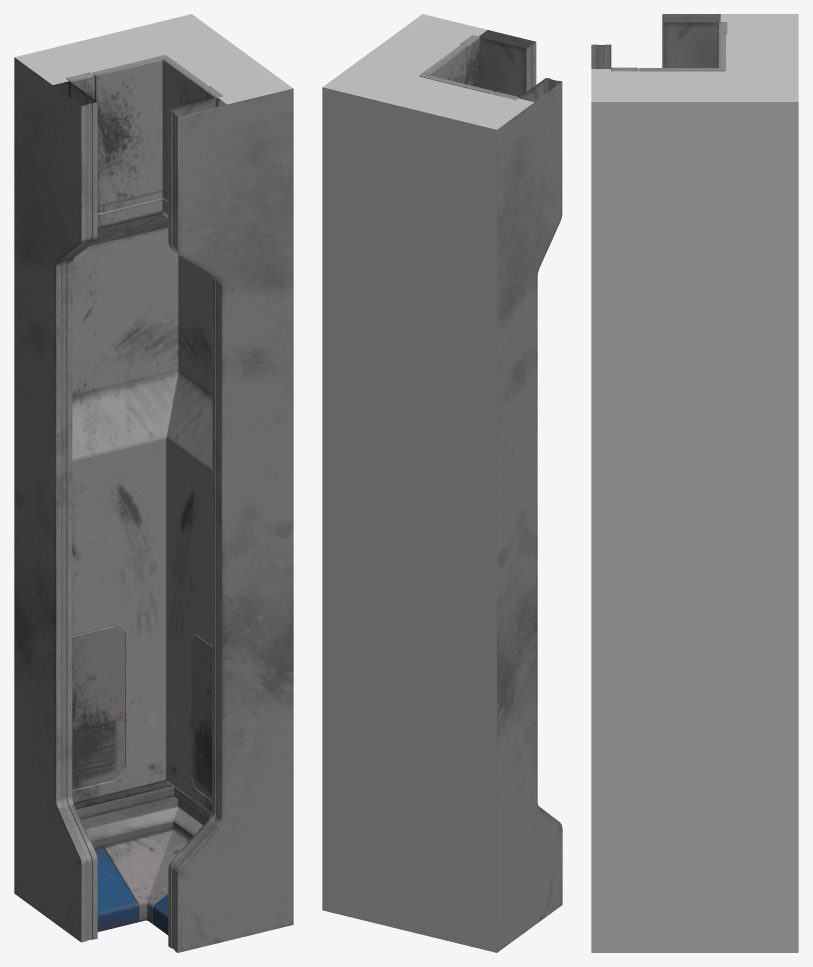
File: SM_CorridorWall0Corner02.fbx
3 renders of one model, left to right at view 1: azimuth 30°, elevation 25°; view 2: azimuth 150°, elevation 25°; view 3: azimuth 270°, elevation 25°, orthographic. The views are drawn at different scales.
Visible parts, largest first — view 1: SM_CorridorWall0Corner02_LOD0; view 2: SM_CorridorWall0Corner02_LOD0; view 3: SM_CorridorWall0Corner02_LOD0.
Part boxes in pixels (left/top/right/bottom): SM_CorridorWall0Corner02_LOD0: left=14, top=14, right=293, bottom=952; SM_CorridorWall0Corner02_LOD0: left=322, top=14, right=562, bottom=952; SM_CorridorWall0Corner02_LOD0: left=591, top=14, right=798, bottom=952.
Size of the model in its own units: 84.73 by 84.21 by 382.
2 materials, 1 textured.
